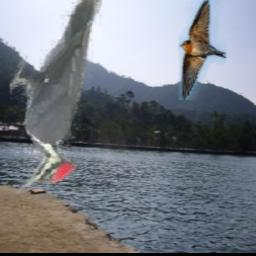Swallow: (180, 0, 227, 101)
Woodpecker: (11, 0, 103, 195)
